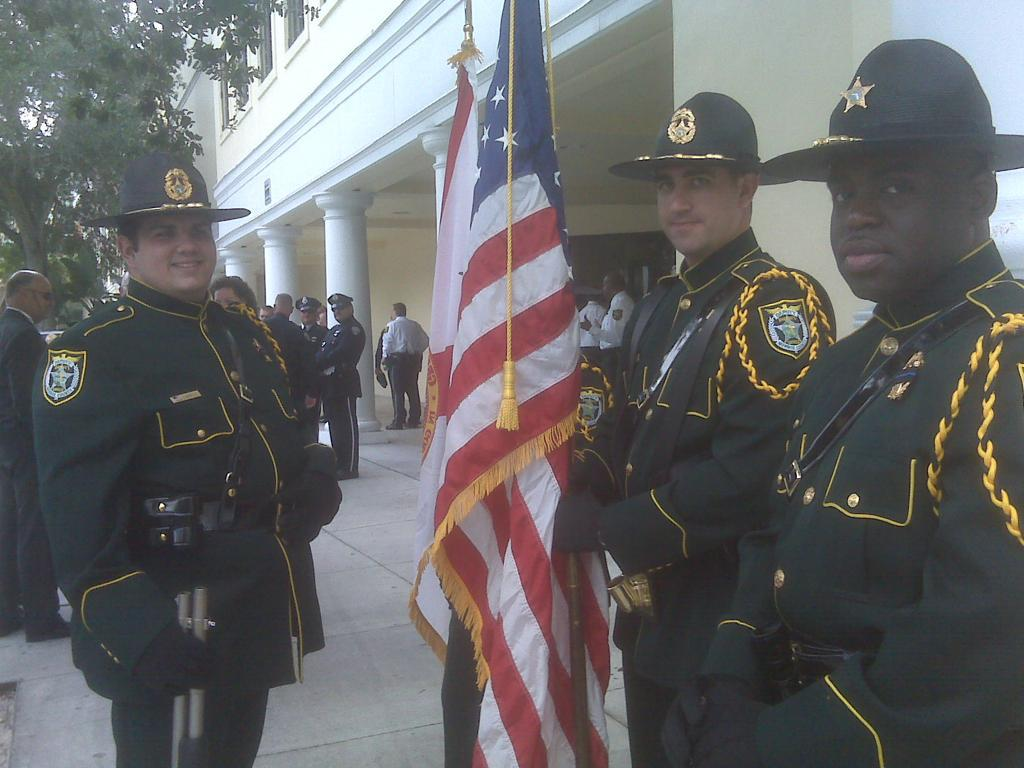face: (827, 139, 973, 298), (658, 149, 741, 251), (137, 201, 216, 292), (26, 282, 53, 320), (214, 293, 243, 328), (334, 303, 351, 321), (603, 280, 615, 298), (301, 306, 314, 322), (261, 312, 271, 325), (392, 309, 398, 320)
